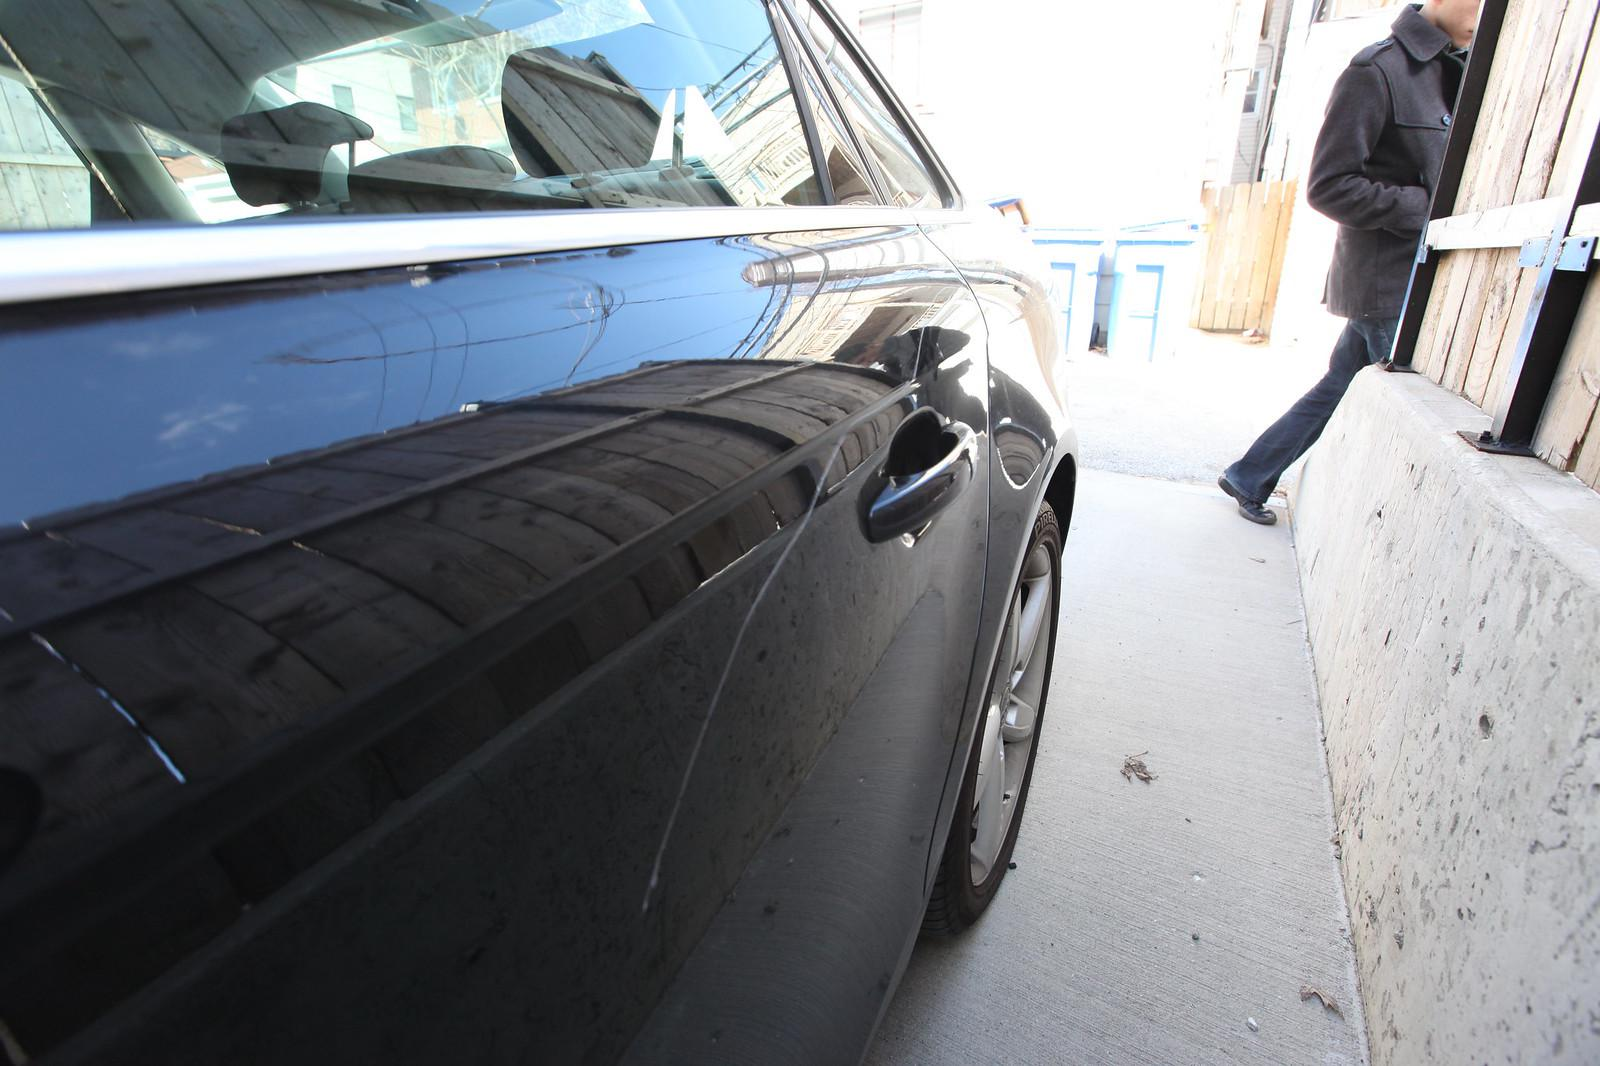doorouter-dent: (473, 265, 999, 1056)
